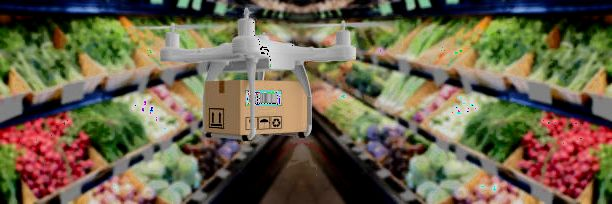Drone: (139, 5, 364, 79)
